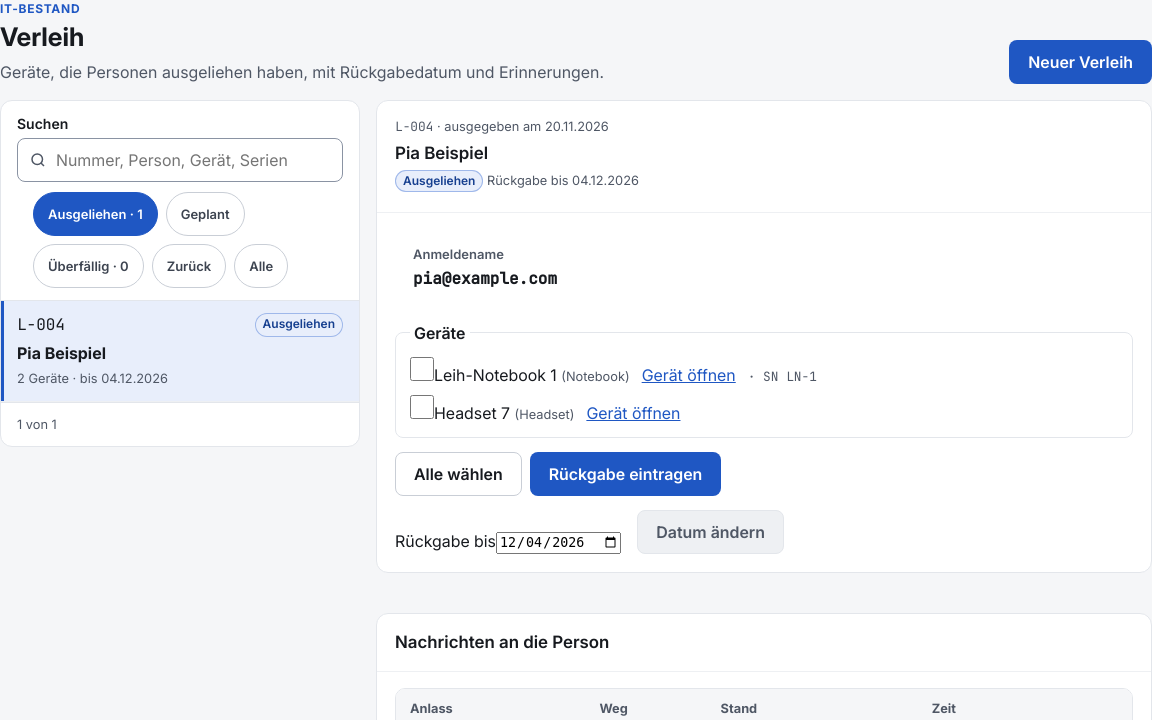
Verleih › trägt die Rückgabe einzelner Geräte ein
The image size is (1152, 720).
Click the button "Rückgabe eintragen" at (626, 474), box left=530, top=452, right=721, bottom=496
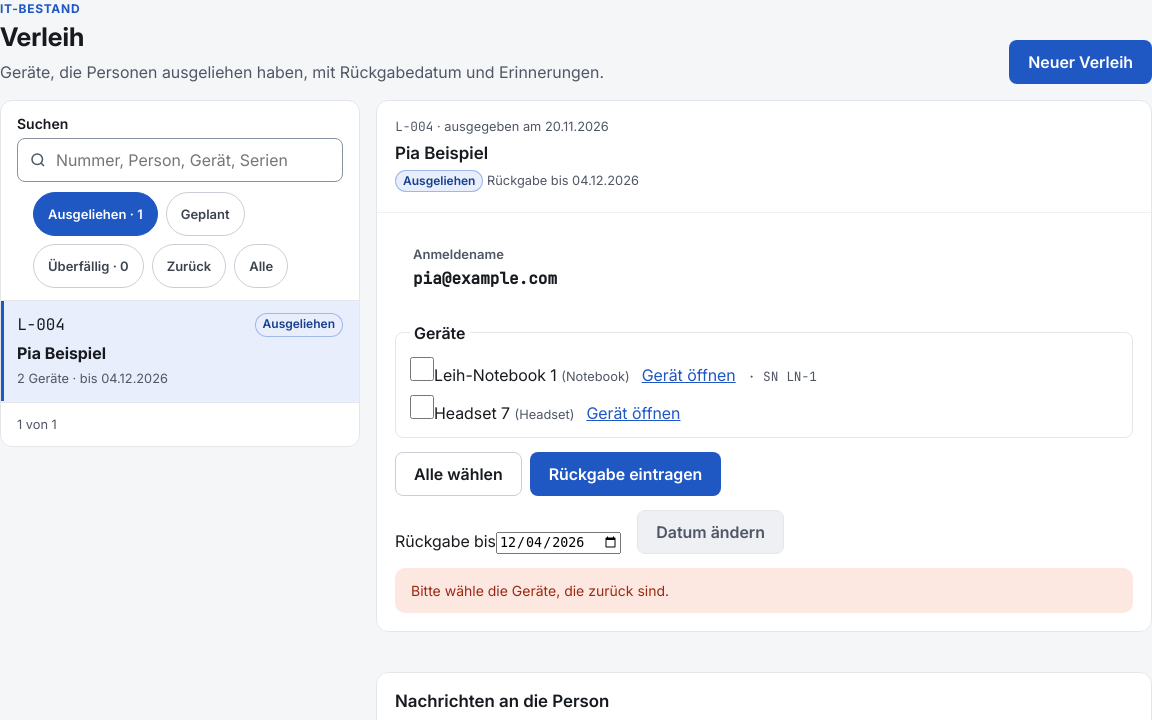
Expected: the message "Bitte wähle die Geräte, die zurück sind." is shown, left=395, top=568, right=1133, bottom=613
Click the checkbox labelled "Headset 7 (Headset)" at (422, 407), box left=410, top=395, right=434, bottom=419
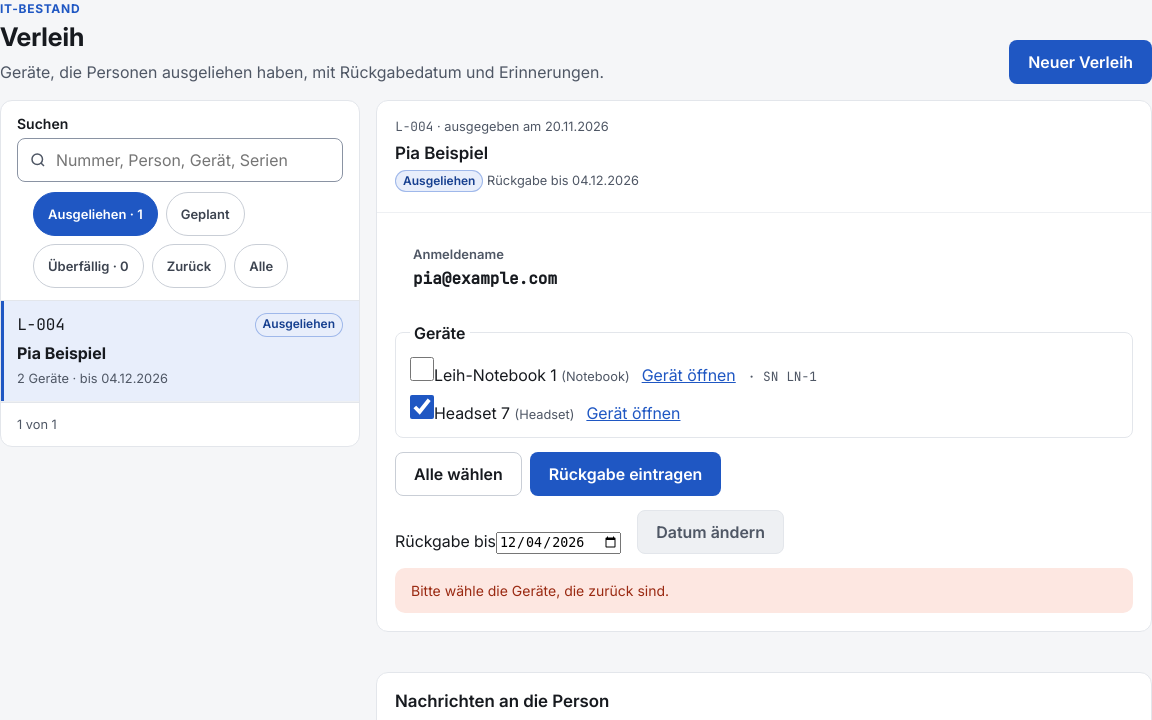
Click the button "Rückgabe eintragen" at (626, 474), box left=530, top=452, right=721, bottom=496
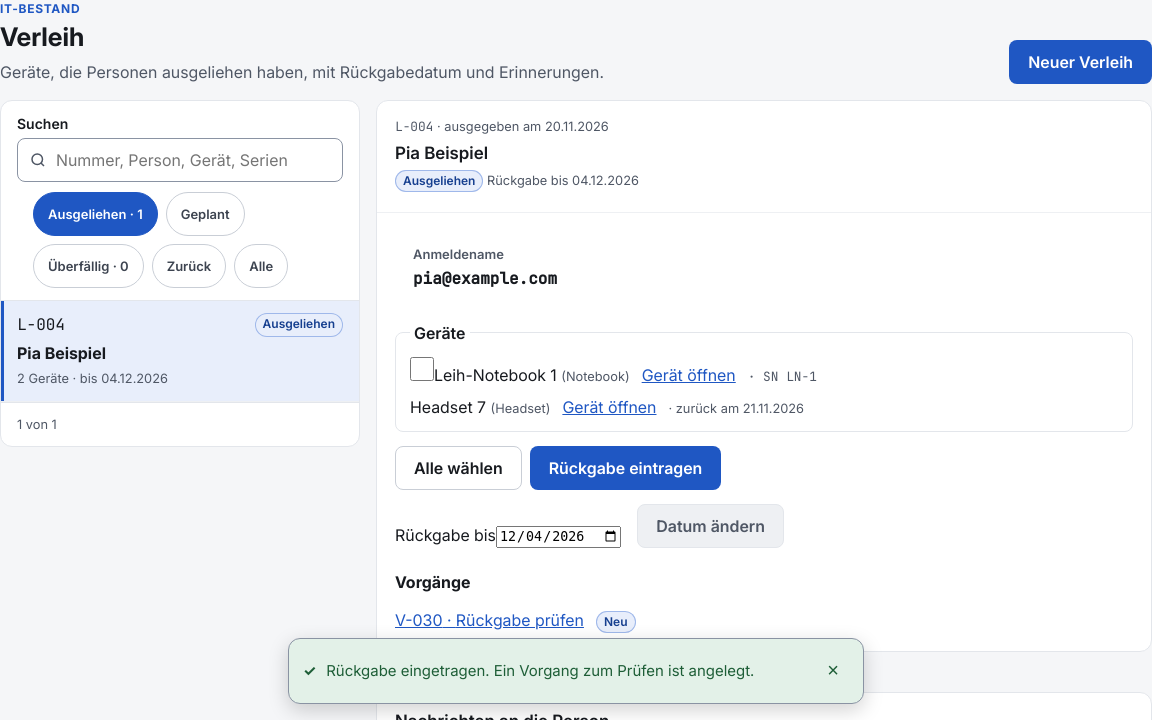
Expected: the text "Rückgabe eingetragen. Ein Vorgang zum Prüfen ist angelegt." is shown, left=326, top=660, right=754, bottom=680
Expected: the link "V-030 · Rückgabe prüfen" is shown, left=395, top=608, right=584, bottom=632
